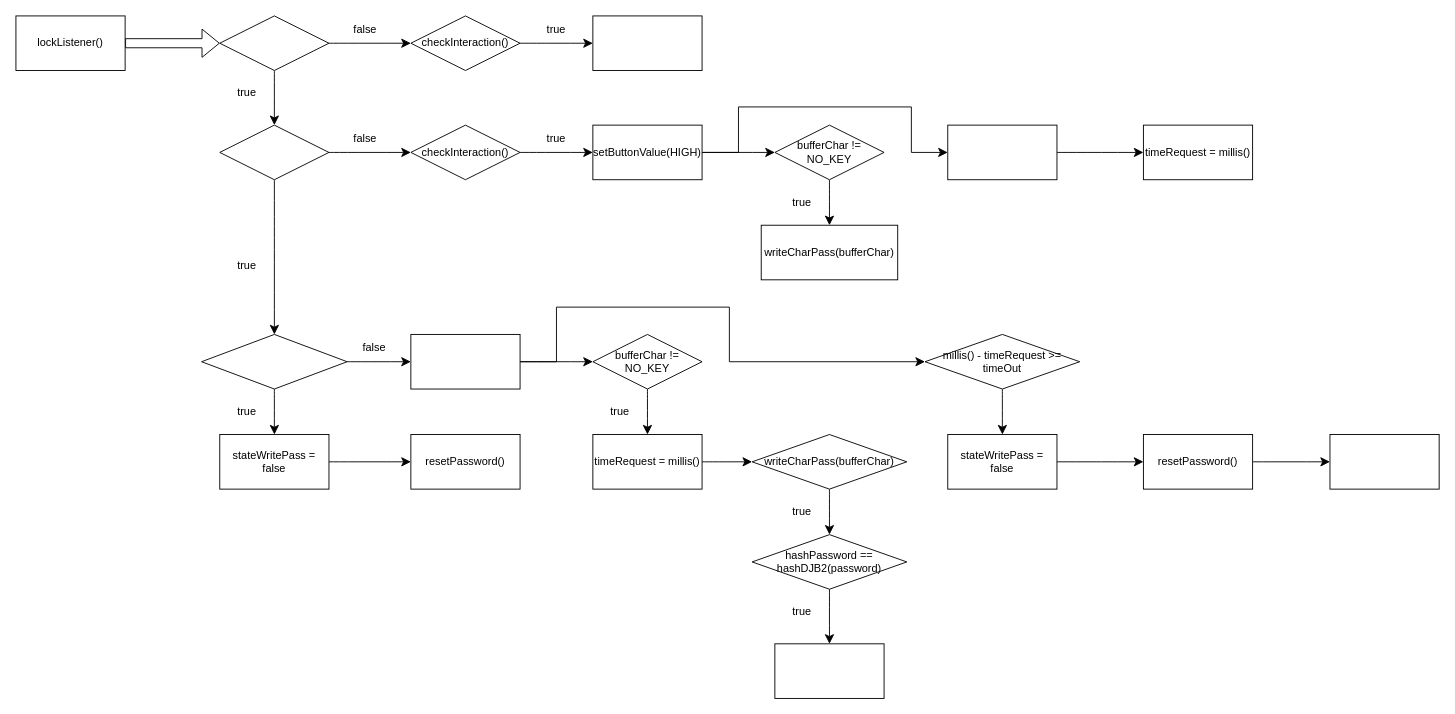
Some shapes in this 1455 by 714 pixel diagram are drawn without their labels. The shapes that lost their labels are listed below. From the top down, each one's centre as x and y in pixels, then its label:
At pixel 274 43: "locked".
At pixel 647 43: "openDoorPulse()".
At pixel 274 152: "stateWritePass".
At pixel 1002 152: "stateWritePass = true".
At pixel 274 361: "digitalRead(butPinOut) == LOW".
At pixel 465 361: "bufferChar = this_keypad.getKey()".
At pixel 1384 461: "setButtonValue(LOW)".
At pixel 829 670: "grantEnter()".
